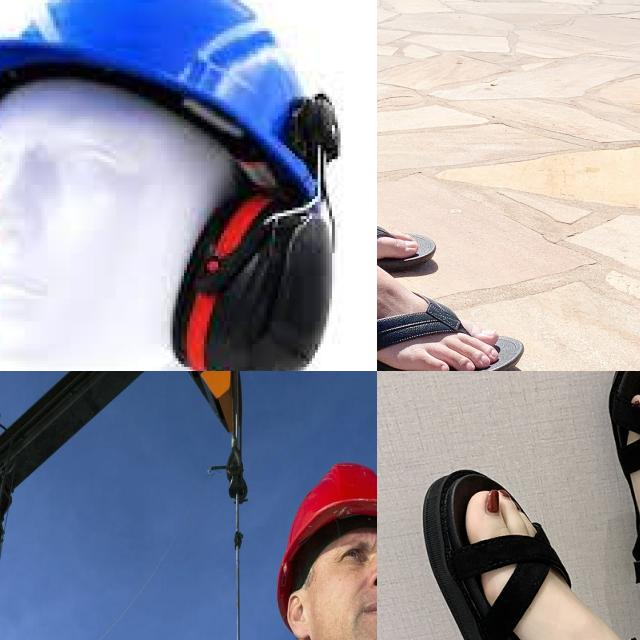Ear-protection: (0, 146, 361, 371)
No_Ear-Protection: (286, 589, 312, 640)
No_Glasses: (333, 544, 377, 567)
Sandals: (377, 371, 640, 640), (377, 248, 525, 371)
face_nomask: (313, 564, 377, 640)
head_helmet: (278, 464, 377, 625)
